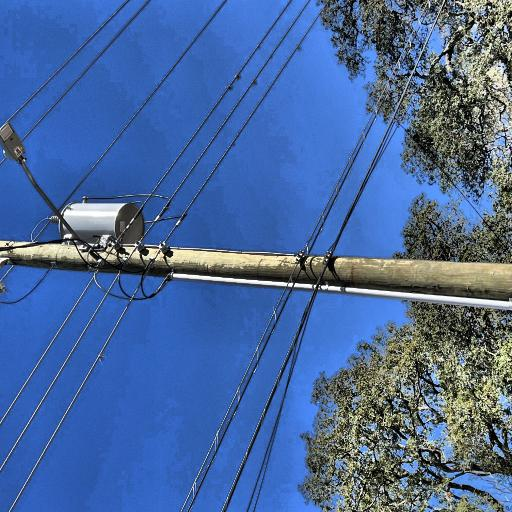pole: (52, 36, 152, 512)
street light: (131, 106, 251, 233)
transformer: (134, 176, 176, 277)
